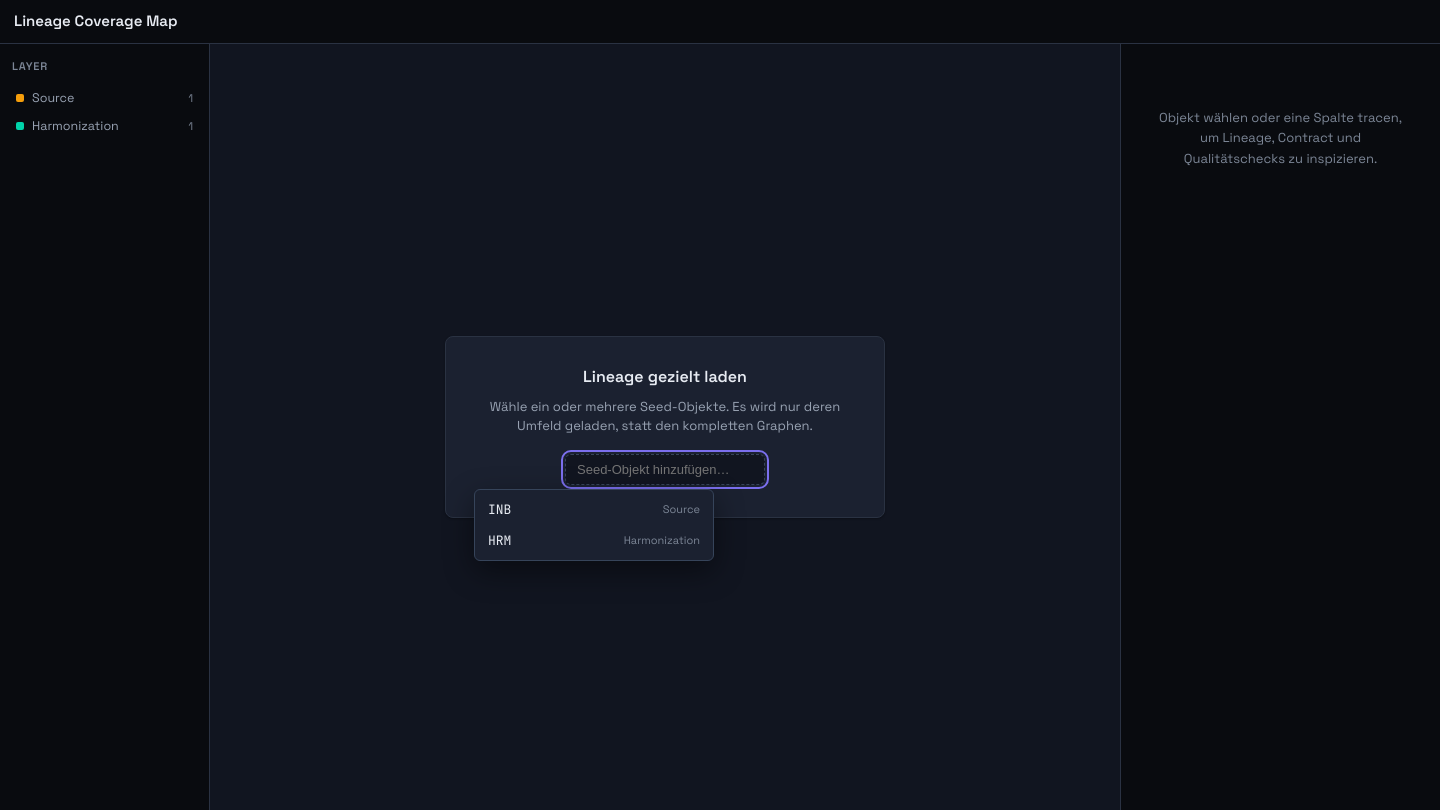
it: SchematicLineage container › gates on a seed and renders the board once one is chosen
Expected: the heading "Lineage gezielt laden" is shown, [583,366,747,387]
Expected: the text "S/4HANA" is not shown
Type "INB" into the field with placeholder "Seed-Objekt hinzufügen…" at (665, 469), box [565,454,765,485]
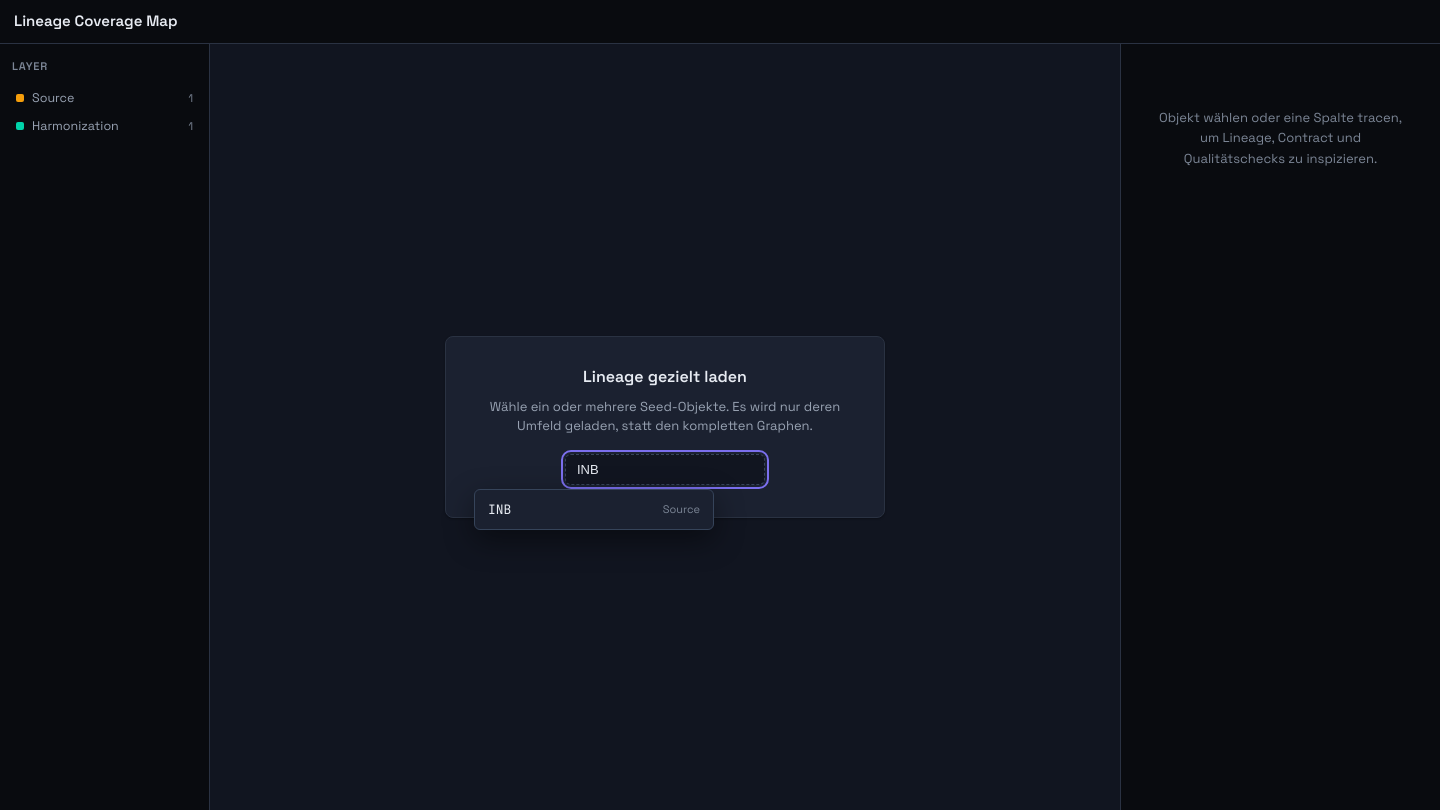
Press the mouse on the button "INB Source" at (594, 509), box [479,494,709,525]
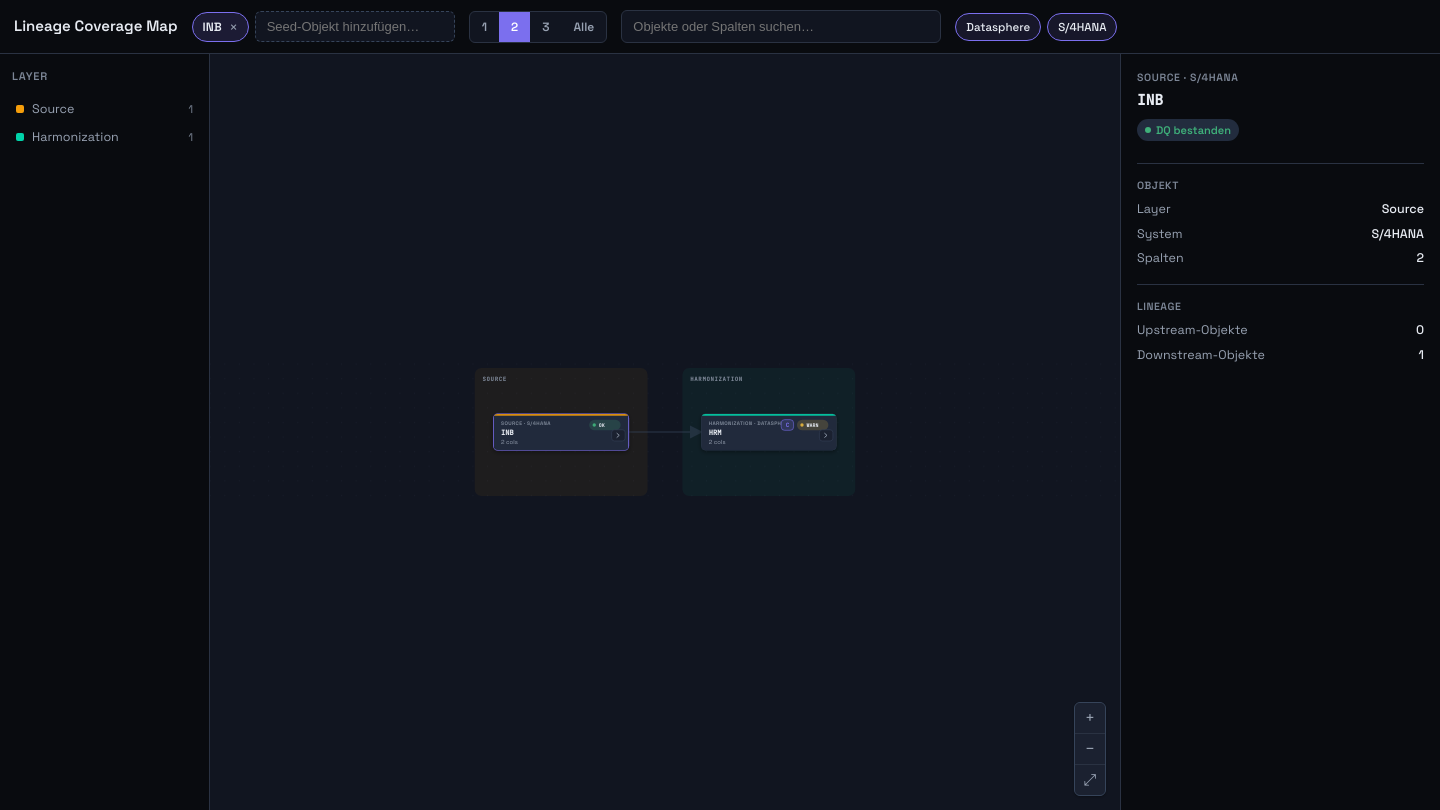
Expected: the text "2 cols" is shown, [501,438,518,446]
Expected: the button "S/4HANA" is shown, [1047,12,1118,40]
Expected: the button "Datasphere" is shown, [955,12,1041,40]
